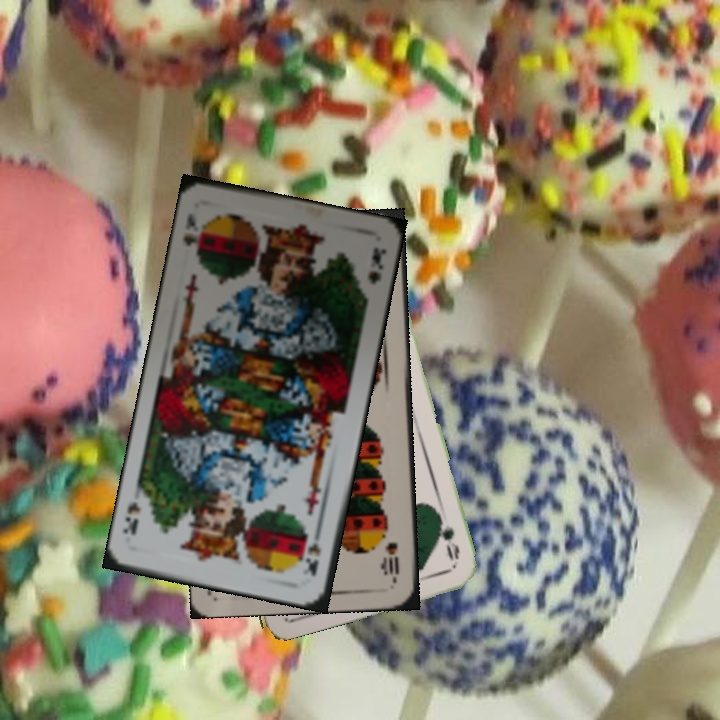GO: (433, 509, 463, 563)
S10: (381, 538, 401, 583)
SK: (179, 209, 208, 259), (301, 524, 325, 578)
